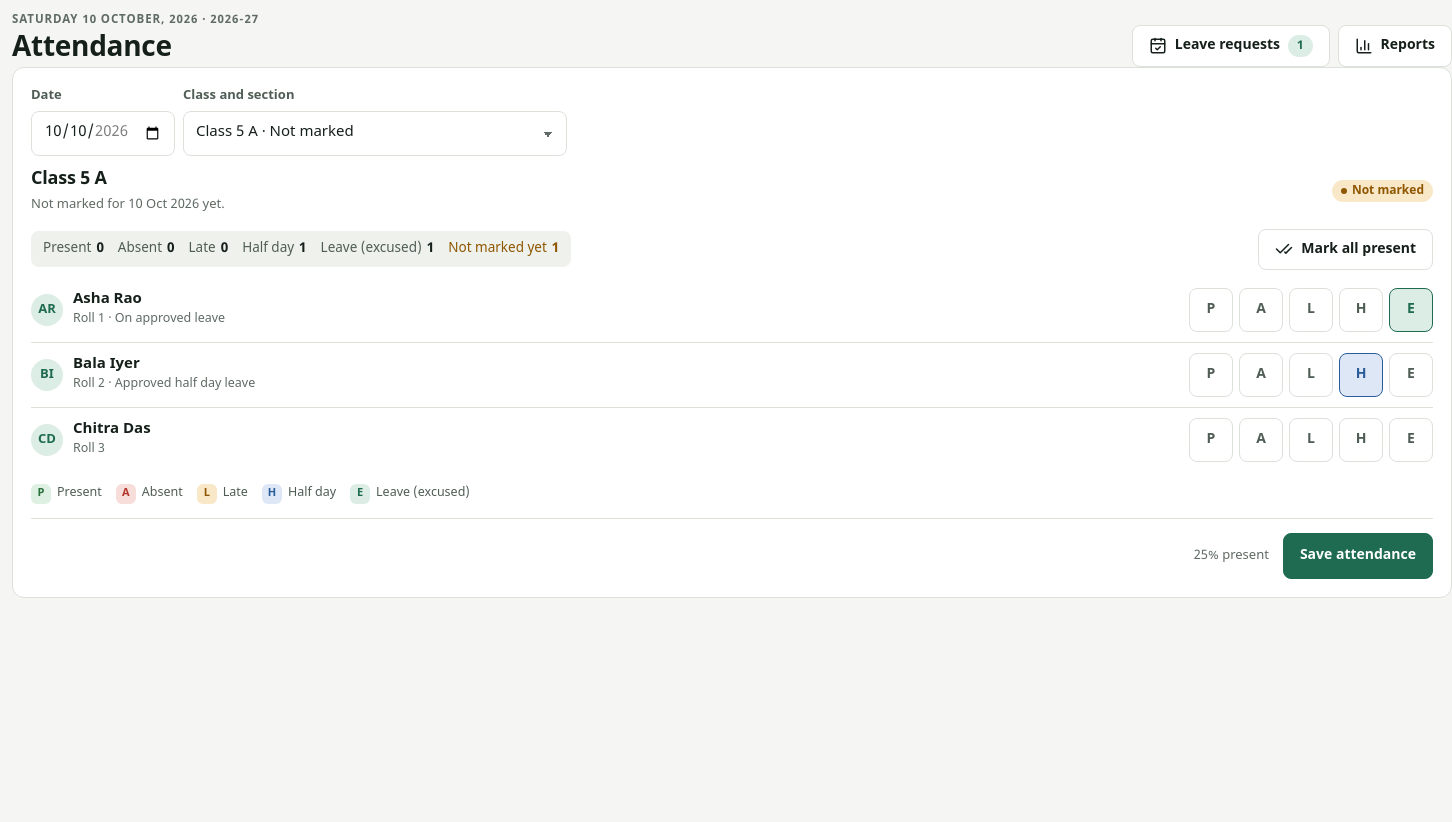
the register with approved child leave › starts an unmarked register from approved leave, which the teacher can change
The image size is (1452, 822).
Check: the text "Roll 1 · On approved leave" is shown, box [73, 310, 225, 328]
Check: the text "Roll 2 · Approved half day leave" is shown, box [73, 375, 255, 394]
"Mark all present" keeps the approved leave.
Click the button "Mark all present" at (1346, 249), box [1258, 229, 1433, 270]
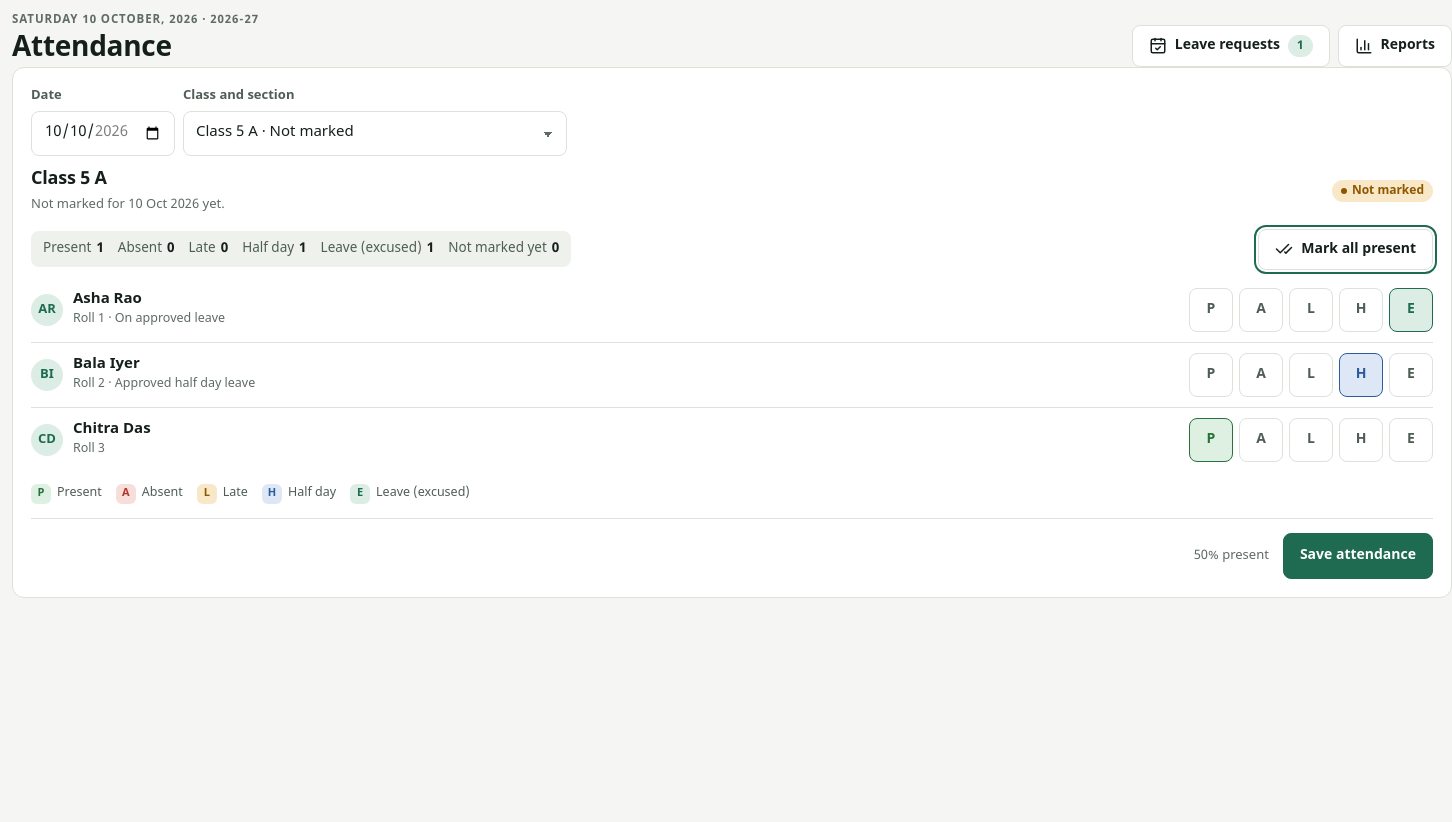
Check: the 2nd text "1" is shown, box [96, 239, 104, 259]
The teacher can still mark someone on leave as present.
Click the button named "Present" at (1211, 310), box [1189, 288, 1233, 332]
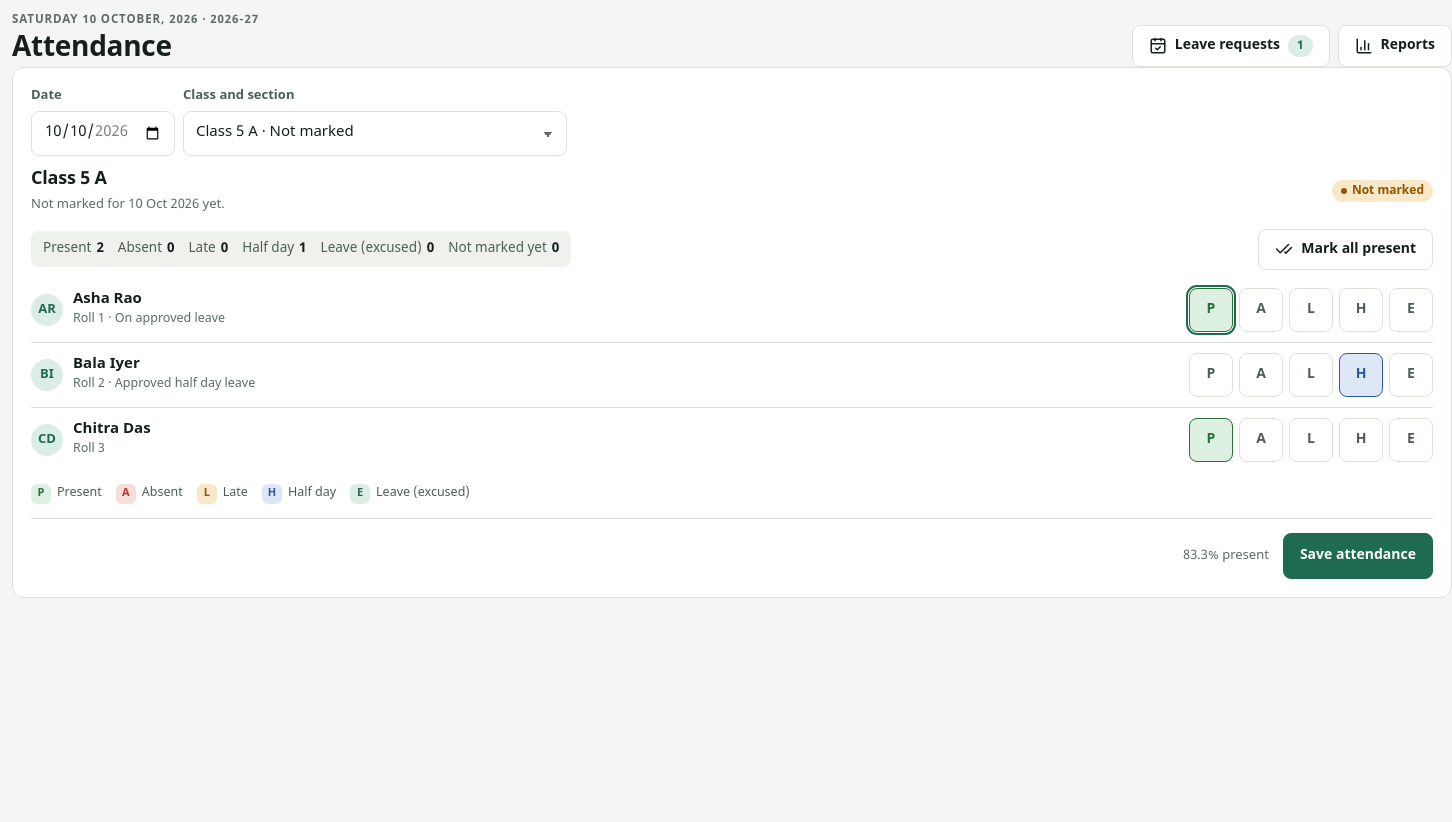
Check: the button named "Present" is pressed, box [1189, 288, 1233, 332]
